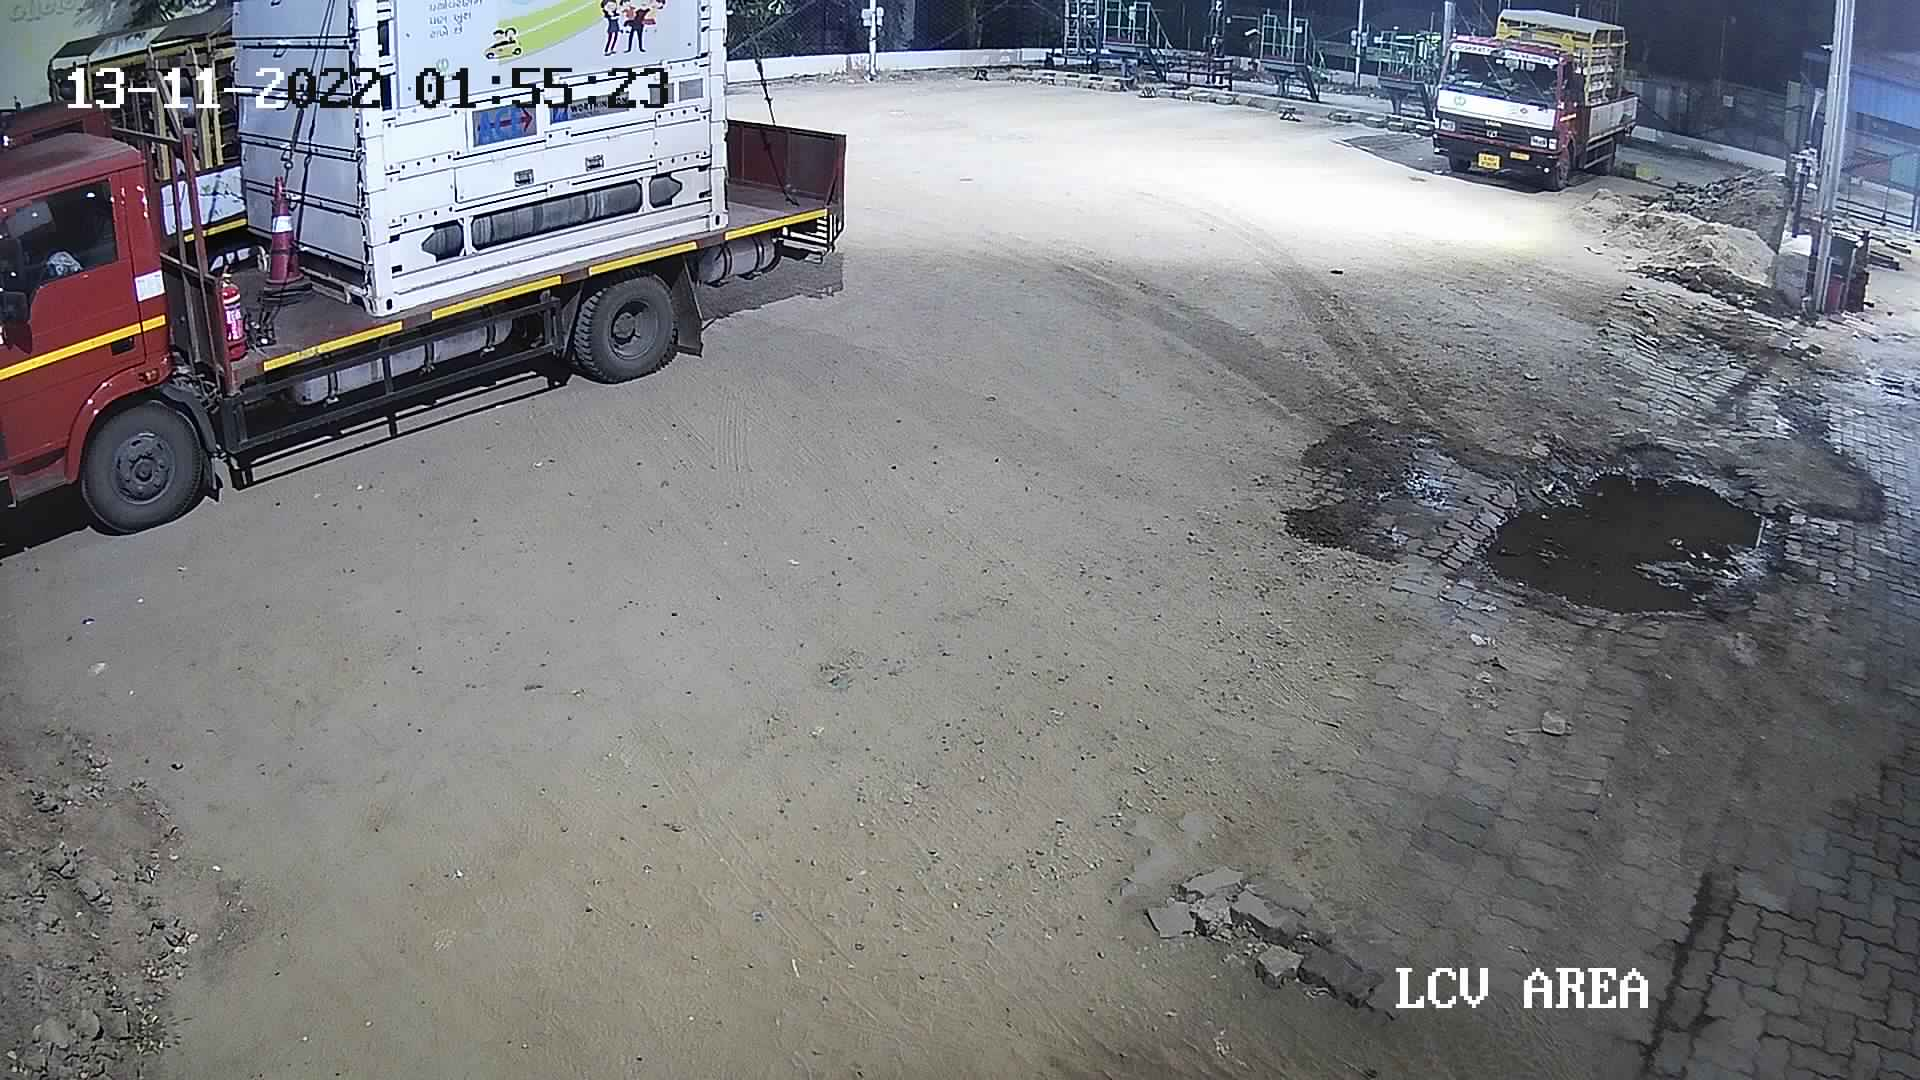HMV: (3, 0, 860, 547), (1, 1, 268, 274), (1420, 1, 1651, 191)
